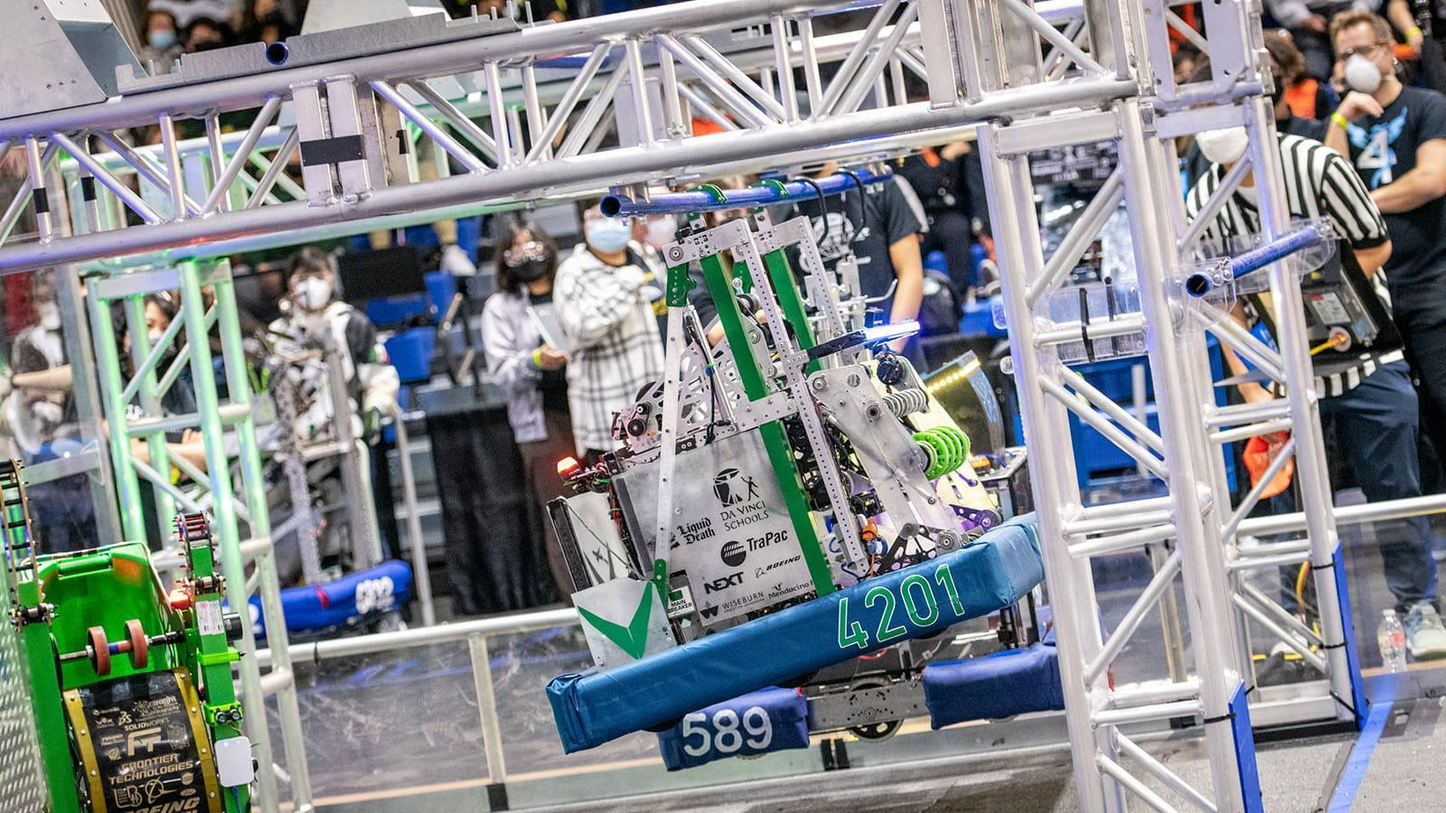robot: (546, 174, 1054, 763), (651, 165, 1069, 784), (0, 455, 260, 813)
